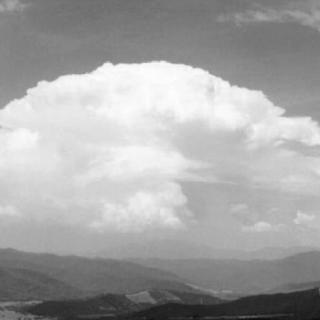Cumulonimbus: (0, 1, 320, 264)
